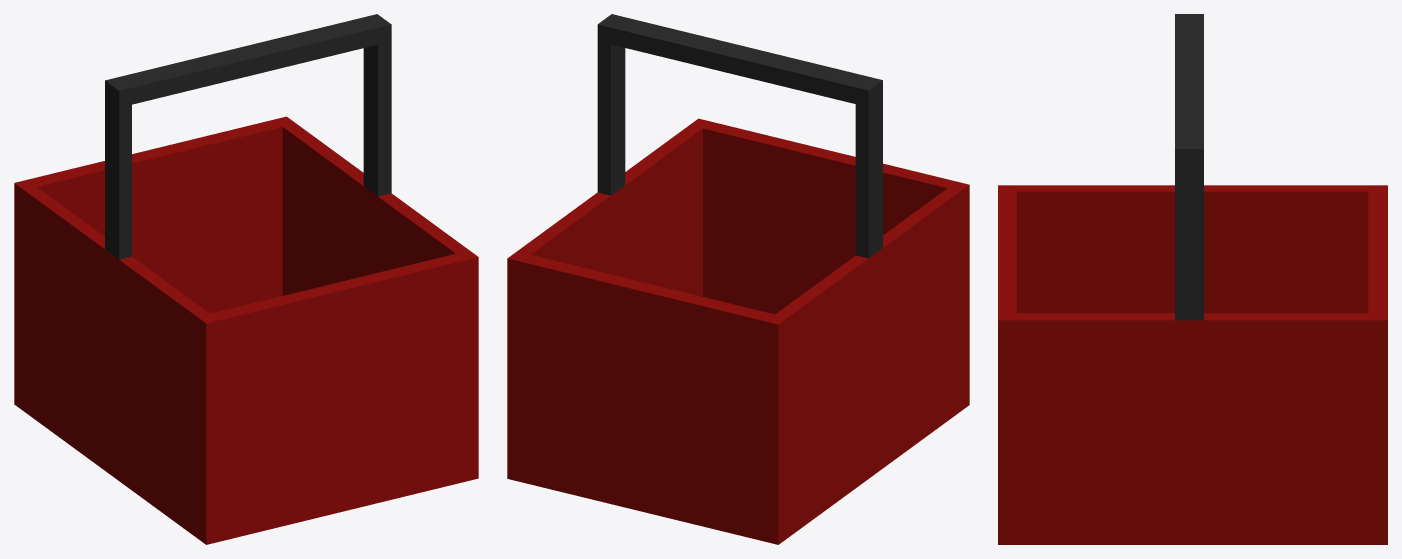
The model's file is shoppingbasket.fbx.
The picture shows the model from 3 angles, left to right: view 1: azimuth 30°, elevation 25°; view 2: azimuth 150°, elevation 25°; view 3: azimuth 270°, elevation 25°; orthographic projection.
Parts seen in each view (by area): view 1: Cube; view 2: Cube; view 3: Cube.
Boxes of the visible parts, <box> form: Cube: <box>14,14,478,544</box>; Cube: <box>507,14,969,544</box>; Cube: <box>998,14,1387,544</box>.
Bounding box in the file's own units: 0.3141 × 0.43 × 0.3835.
